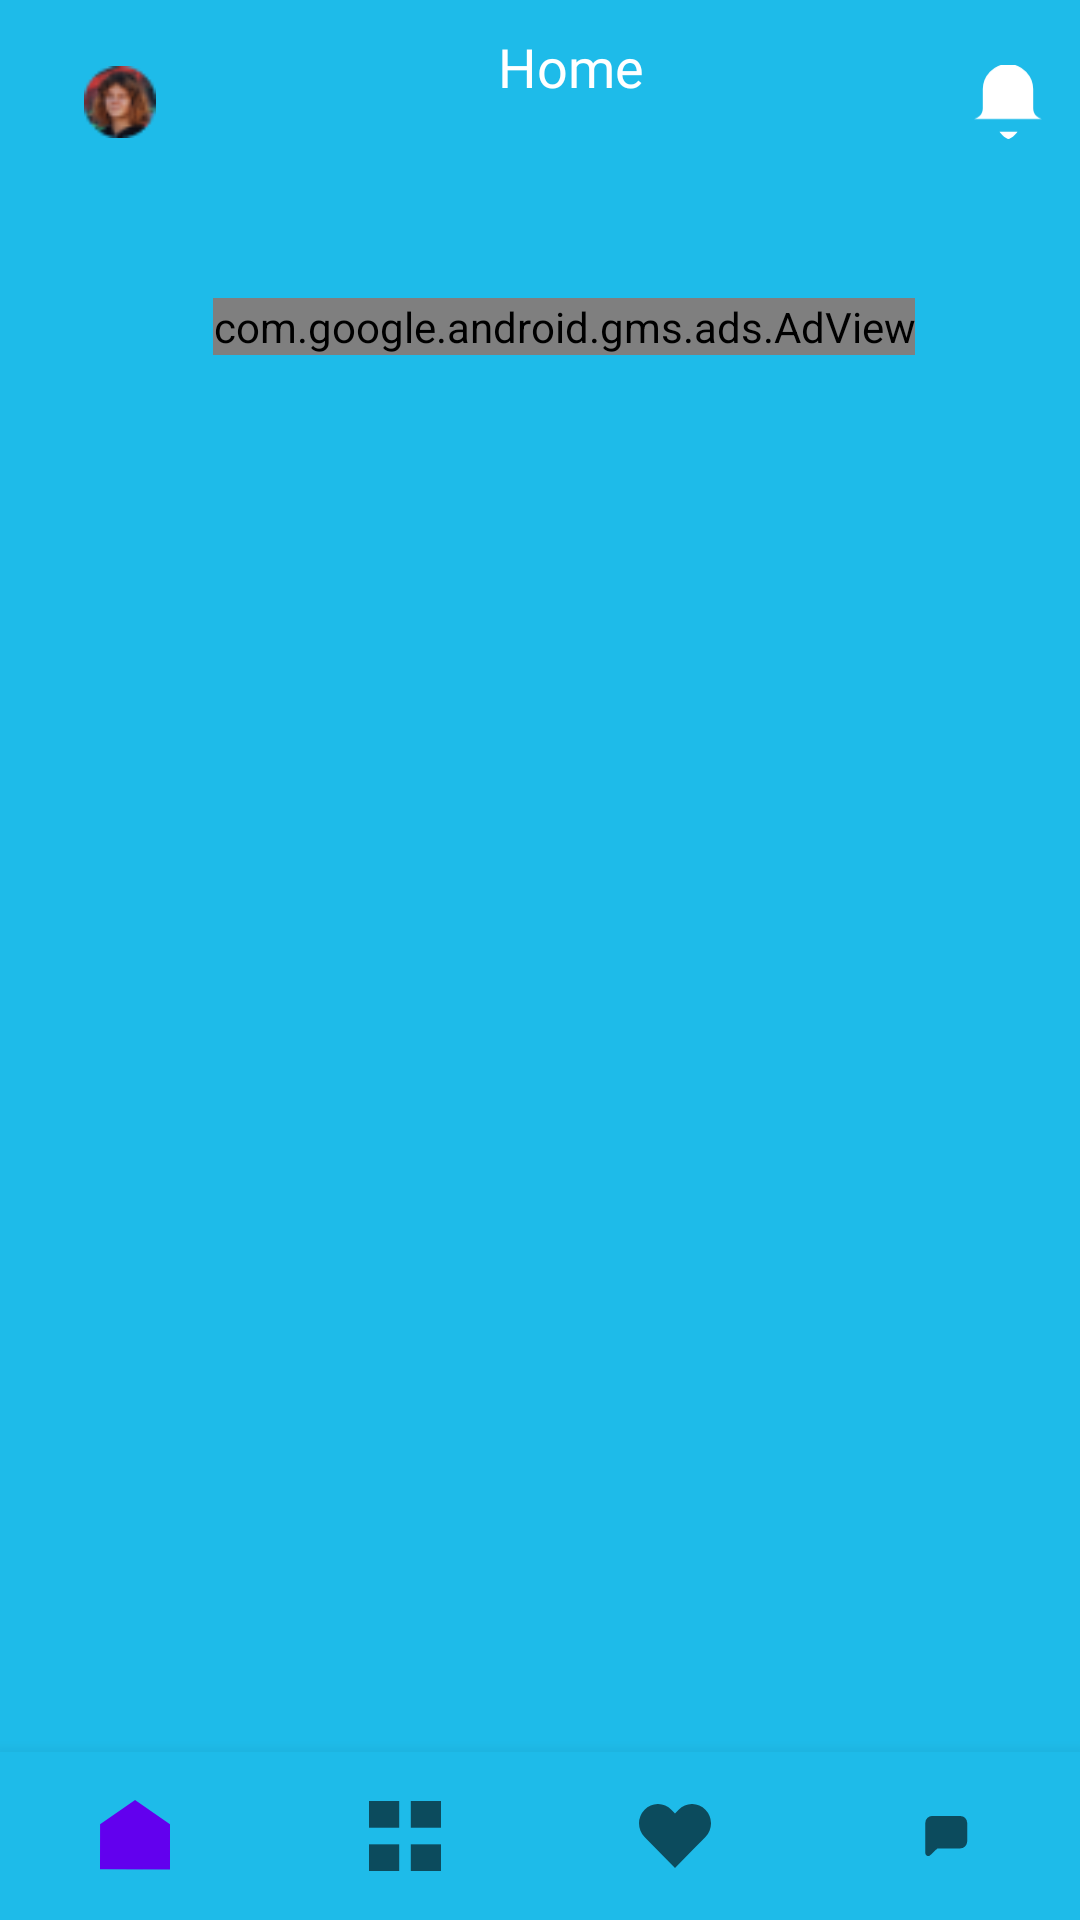

Where icons sit on this 1080 x 1920 app screen, as (x1, y1, x2, y2):
notifications: (975, 65, 1041, 139)
